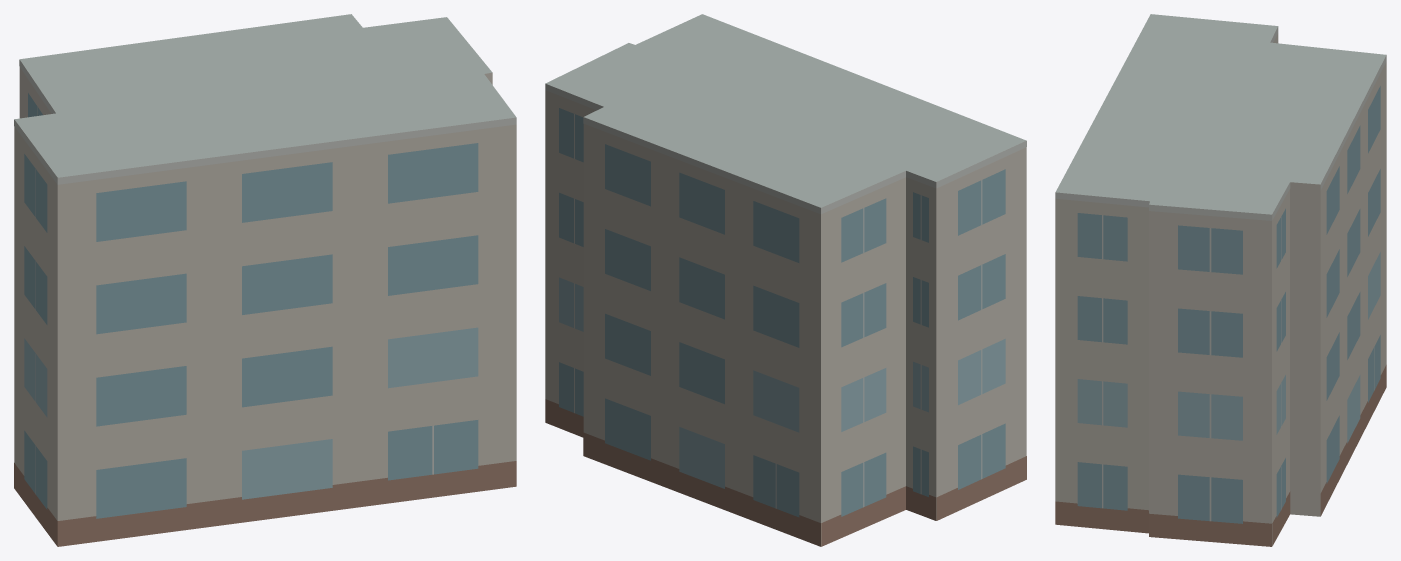
File: survey-upis-32653321.glb
3 renders of one model, left to right at view 1: azimuth 30°, elevation 25°; view 2: azimuth 150°, elevation 25°; view 3: azimuth 270°, elevation 25°, orthographic. The views are drawn at different scales.
Visible parts, largest first — view 1: survey-upis-32653321.tmp; view 2: survey-upis-32653321.tmp; view 3: survey-upis-32653321.tmp.
Part boxes in pixels (bbox=[...]): survey-upis-32653321.tmp: bbox=[14, 14, 516, 546]; survey-upis-32653321.tmp: bbox=[545, 14, 1026, 546]; survey-upis-32653321.tmp: bbox=[1055, 14, 1386, 546].
Size of the model in its own units: 16.59 by 12.8 by 11.58.
